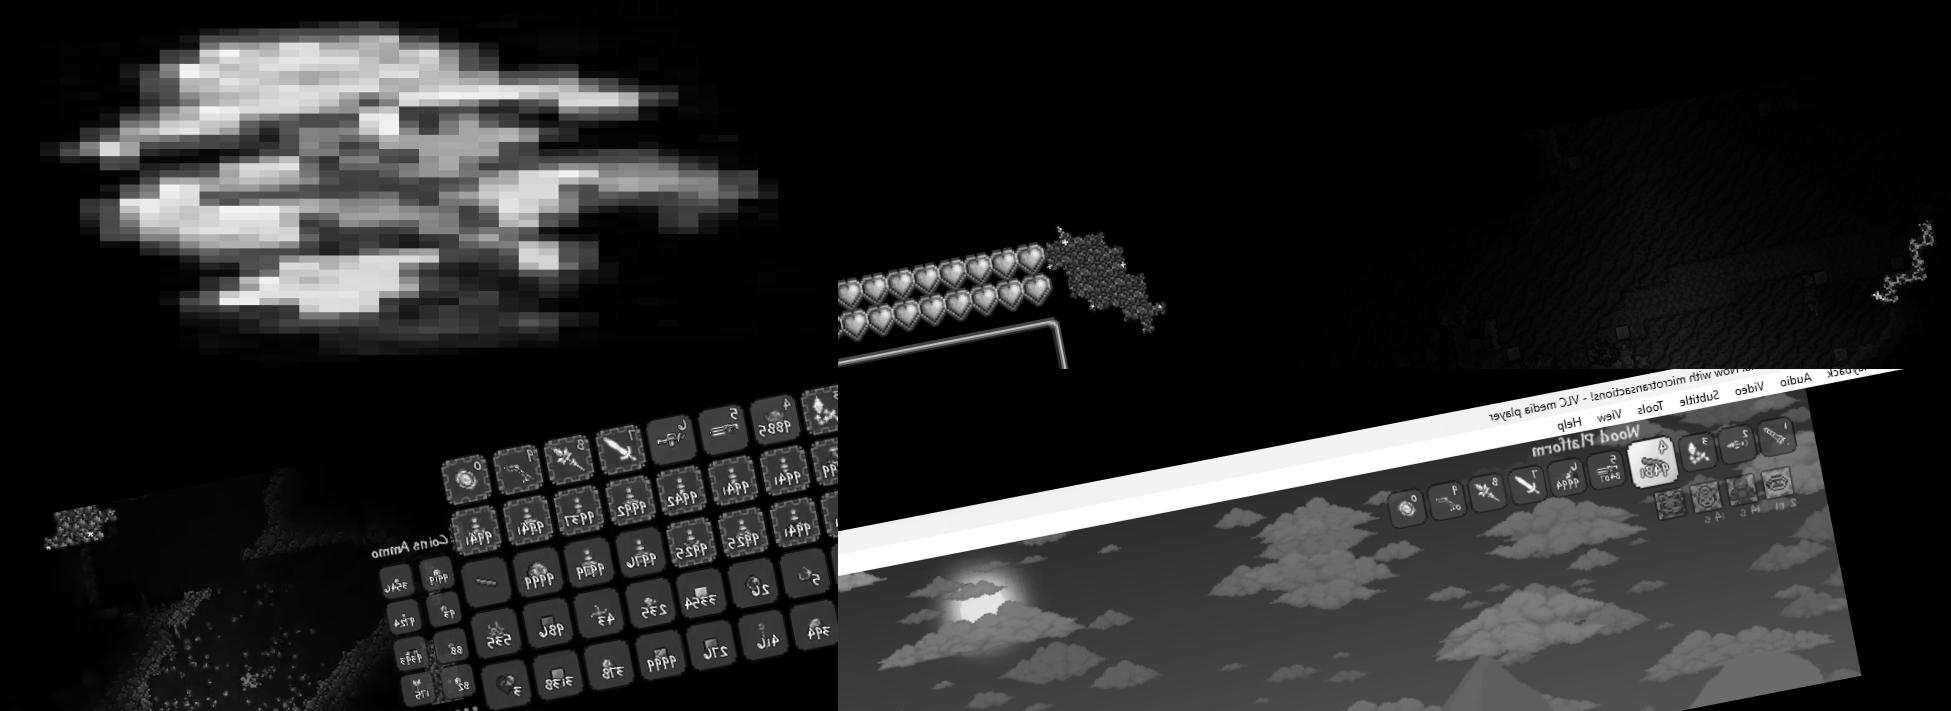lifeC: (493, 670, 519, 696)
zombie: (0, 0, 837, 369)
